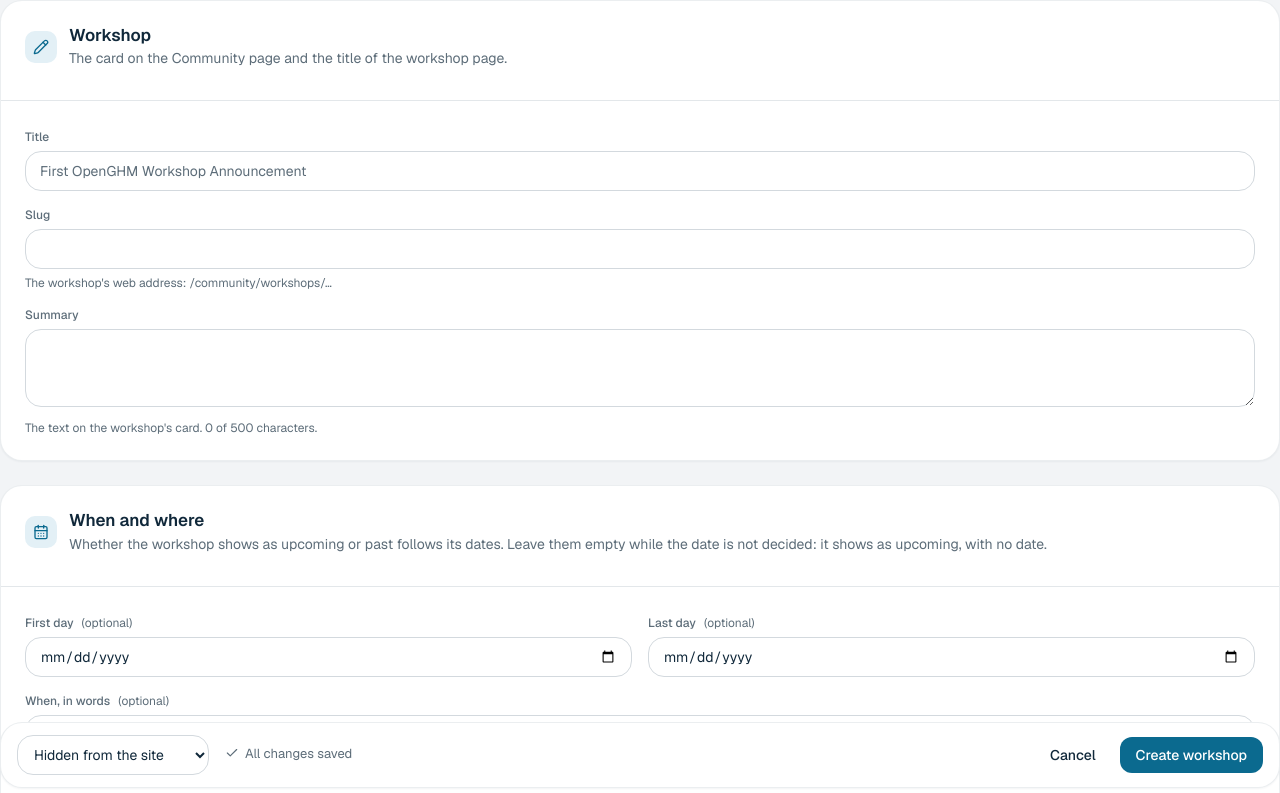
Test: a new workshop › keeps what was typed and says so when the request throws
The width and height of the screenshot is (1280, 793).
Type "First workshop" into the field labelled "Title" at (640, 171), box [25,151,1255,191]
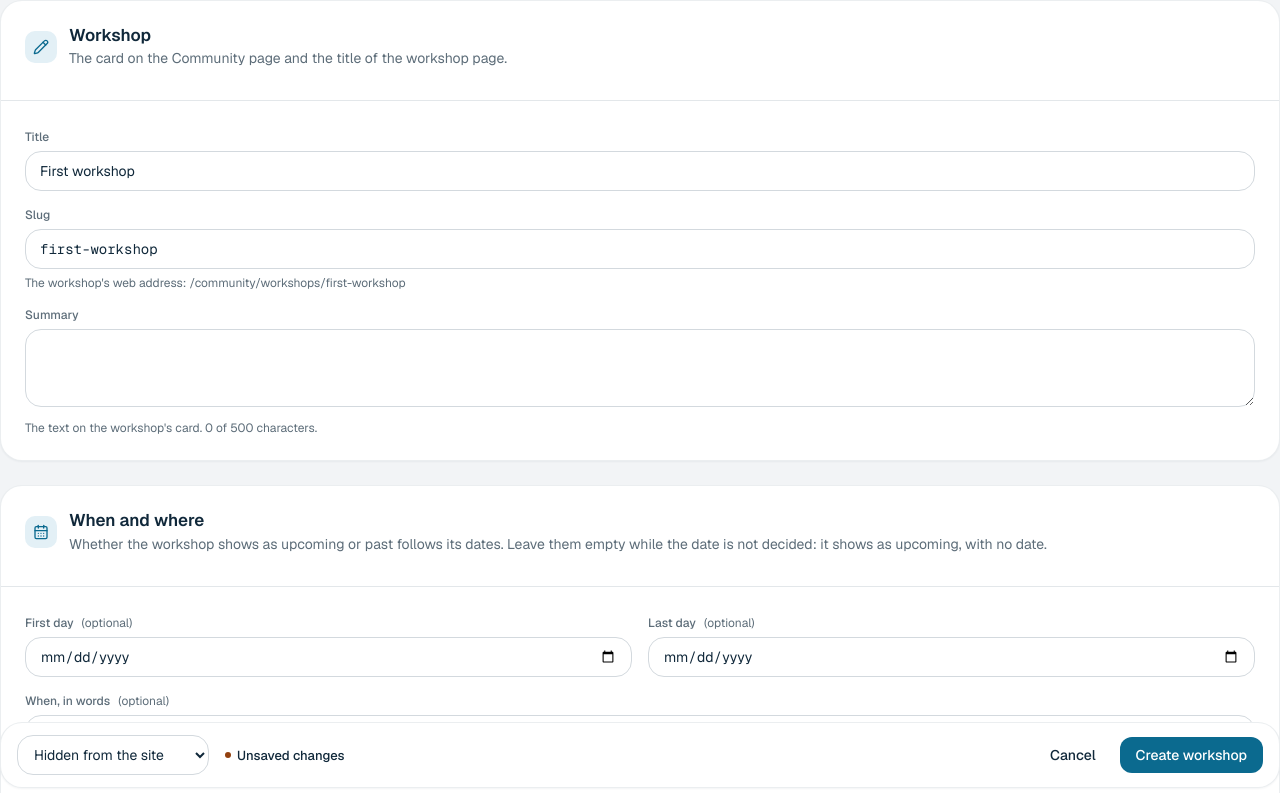
Type "2027-02-15" into the date field labelled "First day (optional)" at (328, 656), box [25,636,632,676]
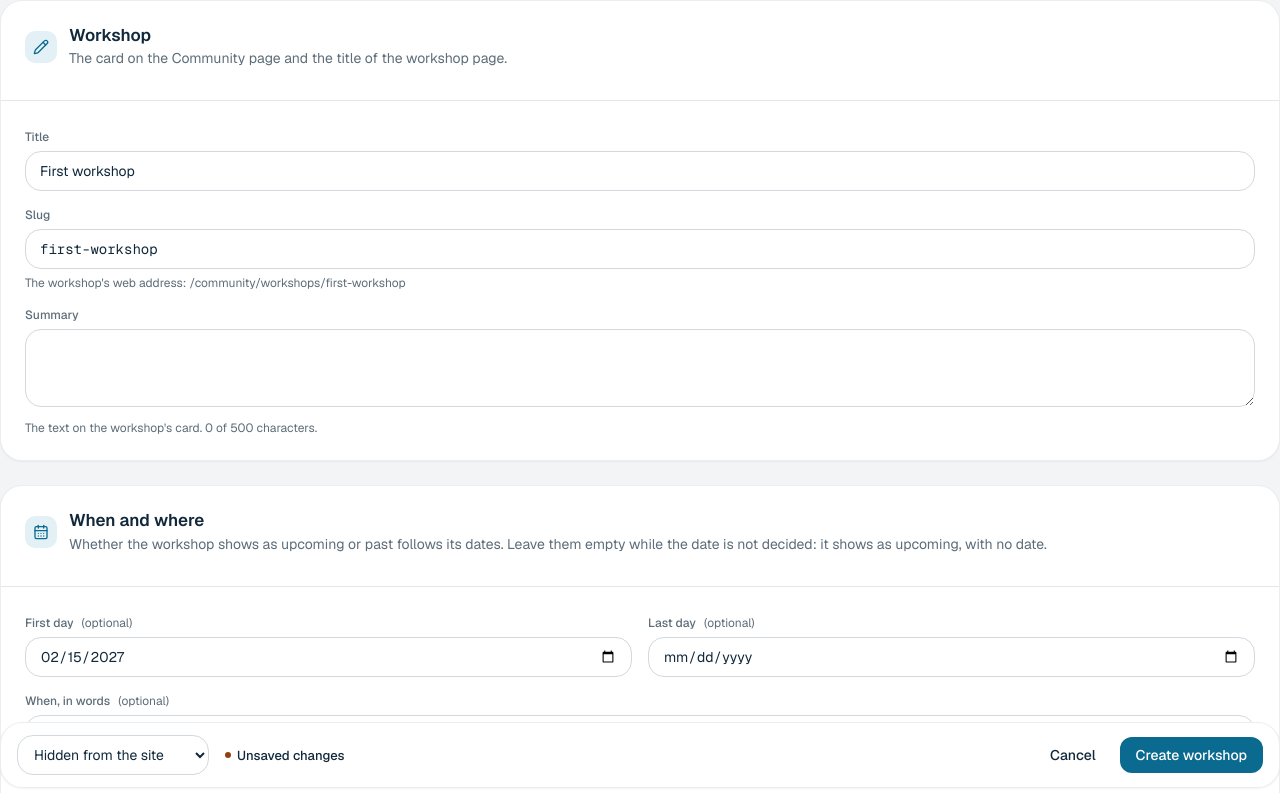
Click the button "Create workshop" at (1191, 755), box [1120,737,1263,773]
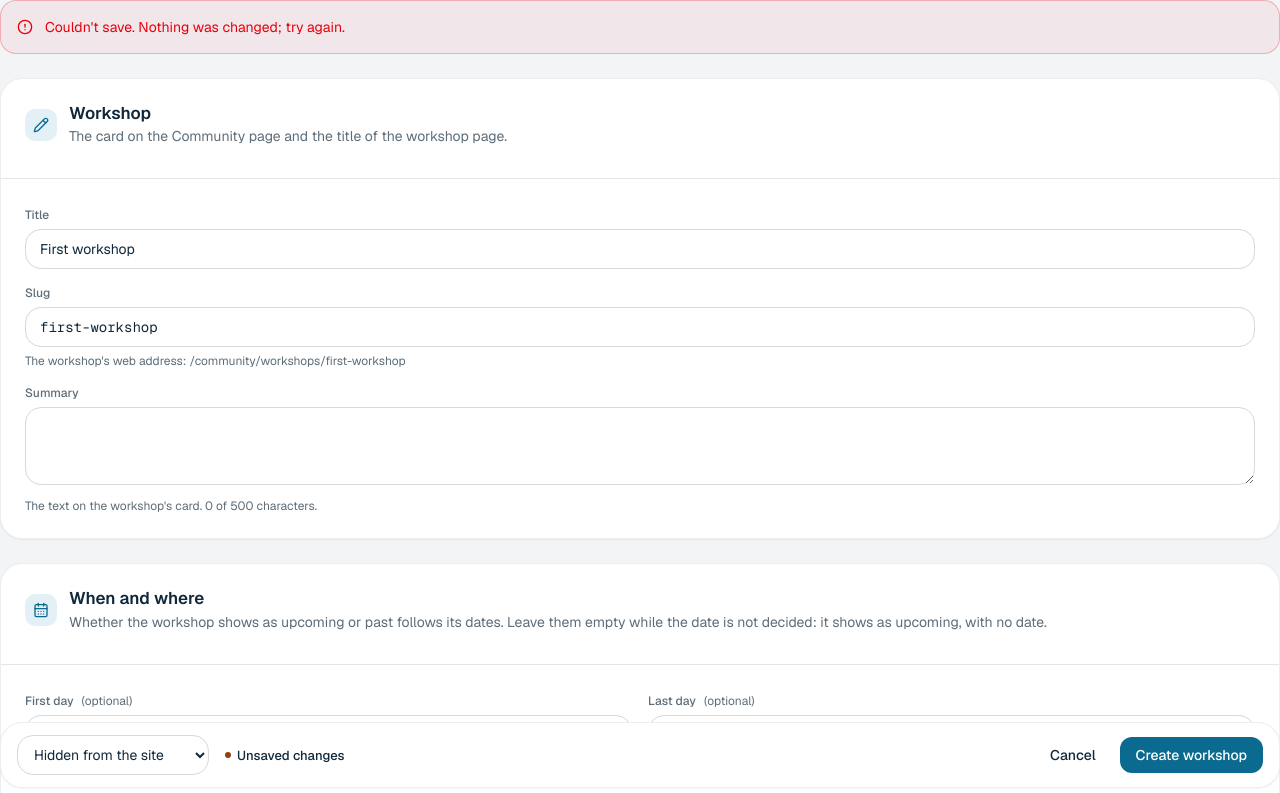
Expected: the text "Couldn't save. Nothing was changed; try again." is shown, [45,17,345,37]
